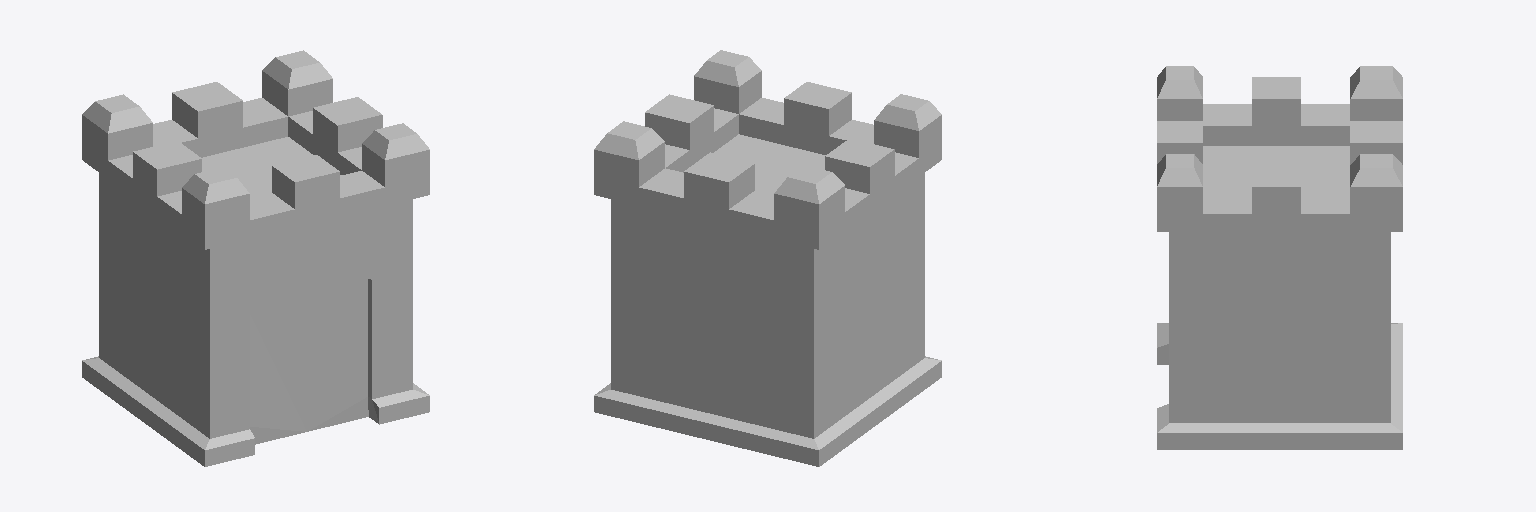
File: castle.obj
3 renders of one model, left to right at view 1: azimuth 30°, elevation 25°; view 2: azimuth 150°, elevation 25°; view 3: azimuth 270°, elevation 25°, orthographic.
Parts seen in each view (by area): view 1: ForestCastle_Cube.030; view 2: ForestCastle_Cube.030; view 3: ForestCastle_Cube.030.
Part boxes in pixels (x1,y1,x2,y2): ForestCastle_Cube.030: (82, 50, 429, 466); ForestCastle_Cube.030: (594, 50, 941, 466); ForestCastle_Cube.030: (1157, 66, 1402, 449).
Bounding box in the file's own units: 5.93 × 6.98 × 5.6.